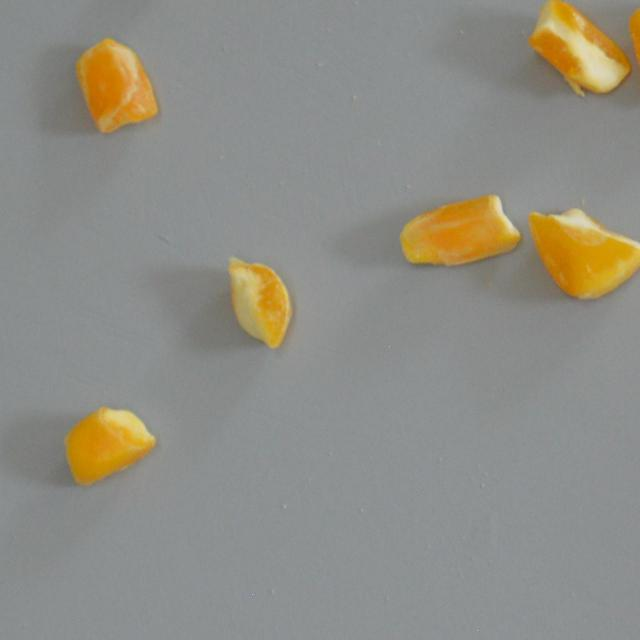pelicula: (523, 198, 640, 307), (60, 386, 158, 498), (68, 31, 166, 142), (523, 0, 634, 96), (210, 247, 306, 358), (394, 191, 521, 270), (620, 0, 640, 107)
